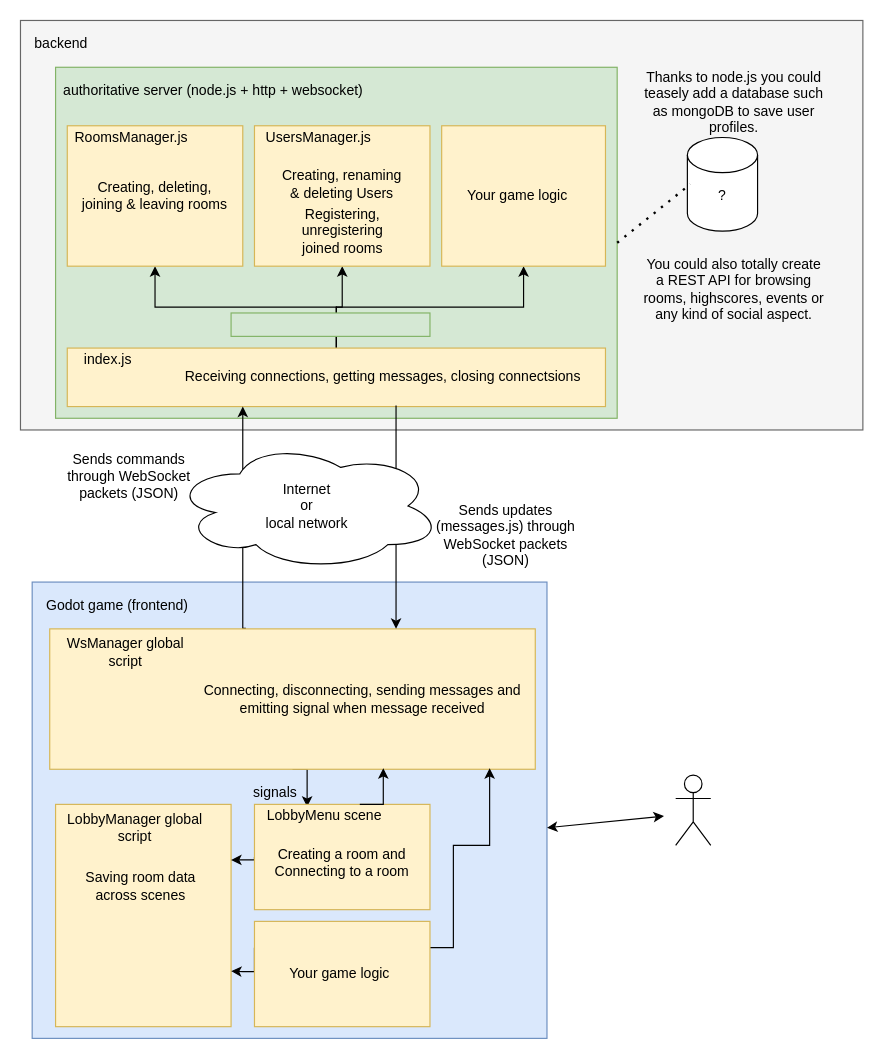
Image size: 883x1059. Some labels were removed from this diagram. The shapes that lost their labels are listed below. From the top down, each one's centre as x and y in pixels, then its label:
(330,324): message data & user
(693,809): Player
